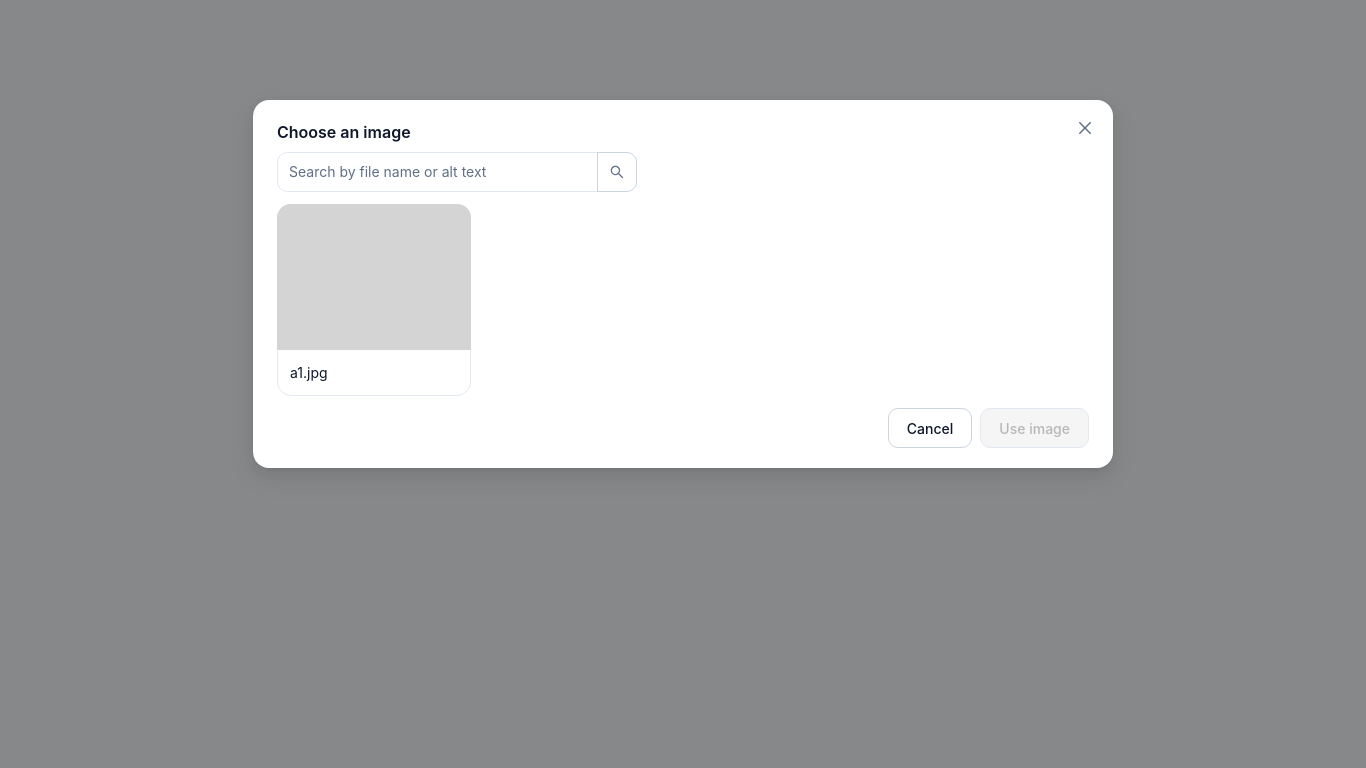
MediaPicker › says a search matched nothing rather than claiming the library is empty
This screenshot has width=1366, height=768.
Check: the text "a1.jpg" is shown, box [290,362,328,383]
In the search field named "Search images": x=430, y=172 [289,161,570,183], type "zzz"
Then press Enter
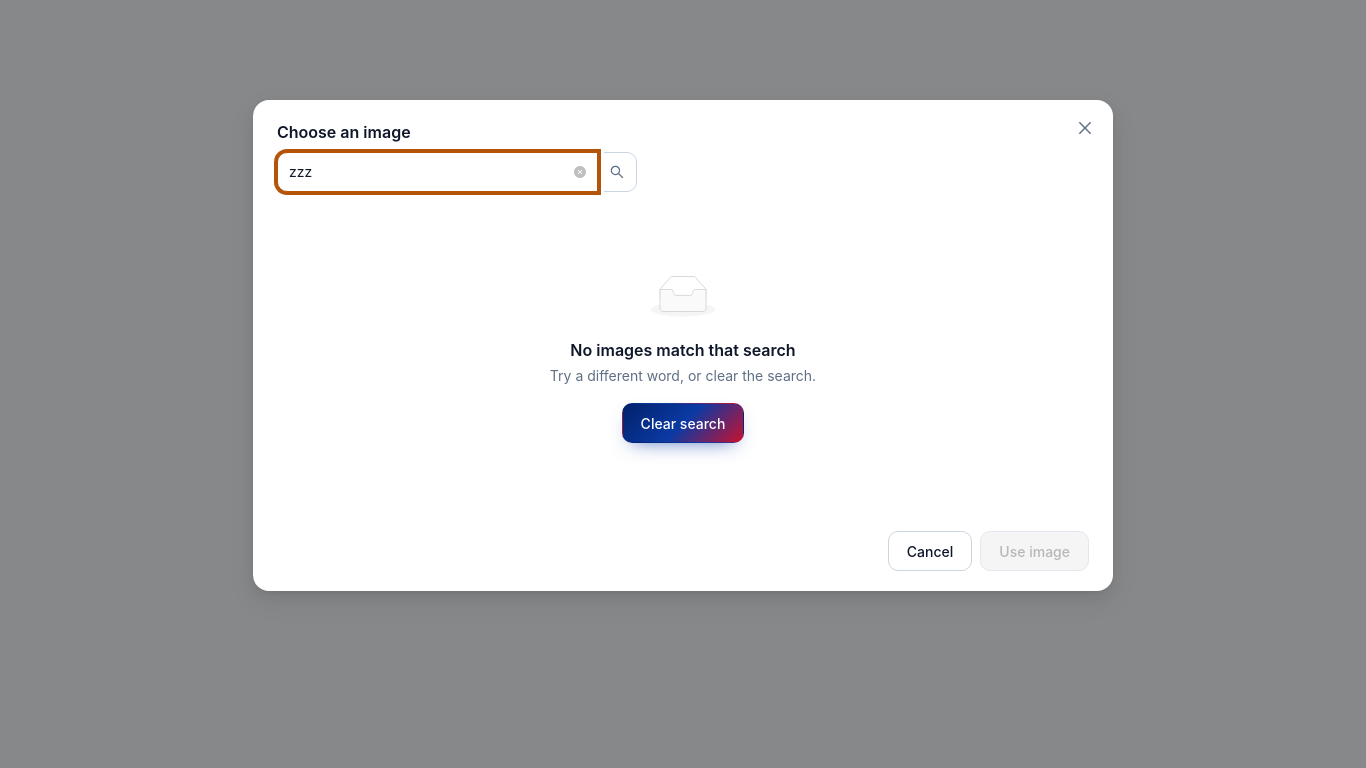
Check: the heading "No images match that search" is shown, box [570,340,796,360]
